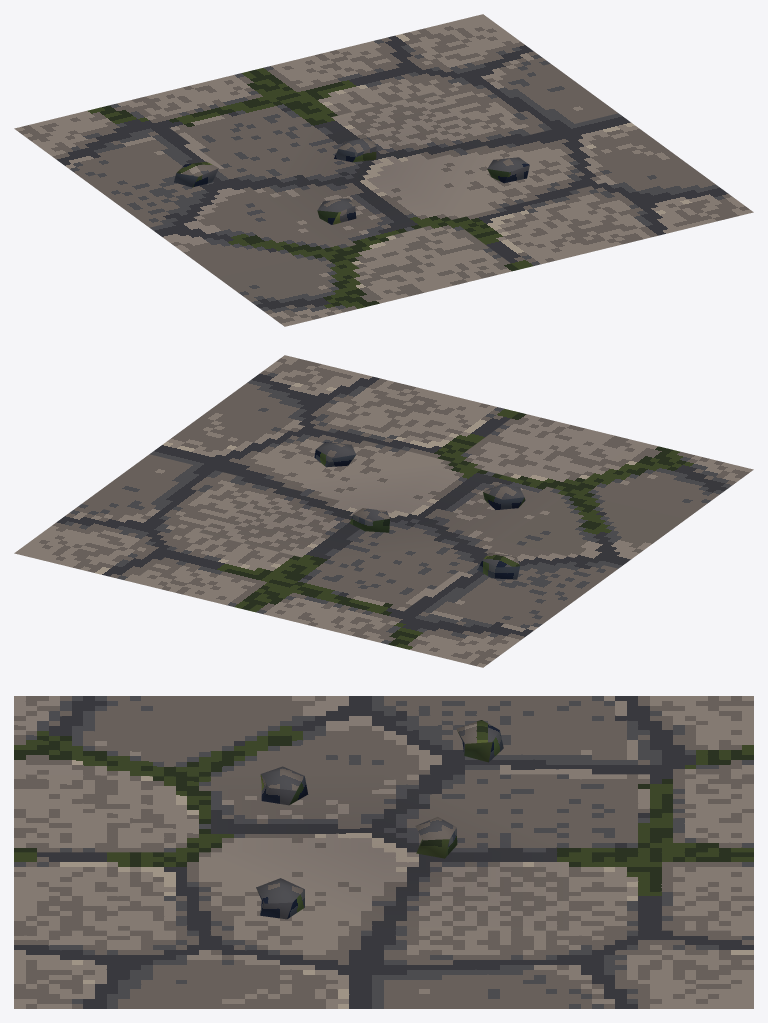
Rendered from dgn.floor__cracked.glb.
The picture shows the model from 3 angles, top to bottom: view 1: azimuth 30°, elevation 25°; view 2: azimuth 150°, elevation 25°; view 3: azimuth 270°, elevation 25°; orthographic projection. The views are drawn at different scales.
Parts seen in each view (by area): view 1: kit_shell_floor, kit_chips; view 2: kit_shell_floor, kit_chips; view 3: kit_shell_floor, kit_chips.
Part boxes in pixels (x1,y1,x2,y2): kit_shell_floor: (14,14,753,326); kit_chips: (174,138,529,224); kit_shell_floor: (14,355,753,667); kit_chips: (314,442,525,579); kit_shell_floor: (14,696,753,1008); kit_chips: (256,720,503,919).
Size of the model in its own units: 4 by 0.1651 by 4.
Materials: 2 (2 with a texture image).
